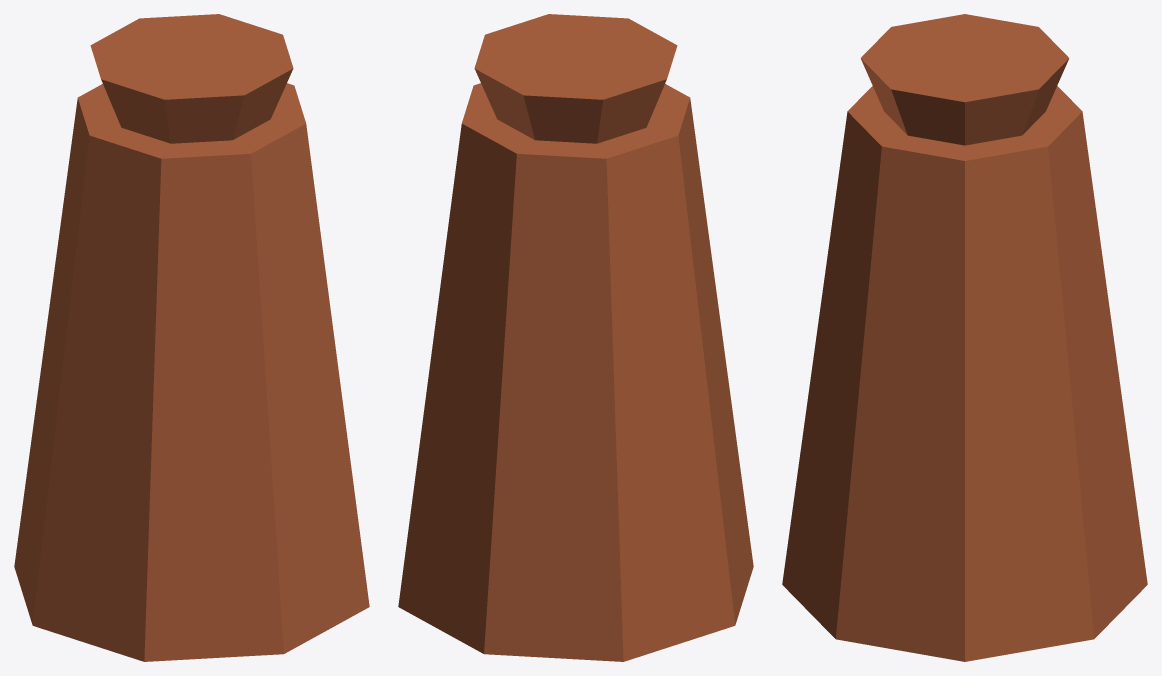
File: jar_large.glb
3 views of the same model, side by side, from view 1: azimuth 30°, elevation 25°; view 2: azimuth 150°, elevation 25°; view 3: azimuth 270°, elevation 25° (orthographic).
Parts seen in each view (by area): view 1: jar_large; view 2: jar_large; view 3: jar_large.
Part boxes in pixels (box(x1,y1,x2,y2)): jar_large: box(14, 14, 369, 661); jar_large: box(398, 14, 753, 661); jar_large: box(782, 14, 1147, 661).
Size of the model in its own units: 0.56 by 0.89 by 0.56.
